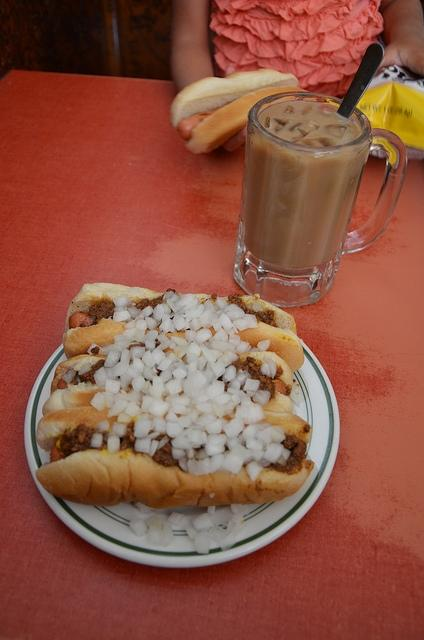onion: (218, 443, 248, 474), (183, 370, 207, 398), (107, 395, 128, 418), (216, 348, 240, 368), (133, 413, 151, 439), (192, 512, 214, 532), (223, 418, 245, 438), (263, 443, 284, 463), (211, 401, 235, 418), (223, 432, 244, 451), (148, 400, 171, 417), (194, 530, 210, 554), (199, 309, 218, 329), (245, 460, 263, 480), (226, 520, 246, 538), (268, 425, 286, 445), (192, 413, 217, 427), (129, 518, 148, 536), (252, 390, 271, 408), (147, 526, 164, 546), (120, 390, 141, 406), (90, 391, 106, 411), (200, 343, 216, 363), (256, 430, 272, 450), (106, 339, 130, 352), (160, 524, 174, 546), (208, 525, 226, 542), (166, 421, 184, 438), (242, 424, 259, 442), (145, 515, 164, 531), (171, 436, 192, 450), (207, 434, 228, 448), (94, 366, 108, 387), (220, 532, 236, 550), (210, 393, 232, 406), (123, 402, 142, 417), (210, 454, 224, 474), (210, 341, 235, 352), (166, 379, 182, 396), (195, 328, 212, 344), (152, 416, 167, 434), (141, 395, 156, 413), (134, 438, 152, 453), (112, 361, 130, 376), (112, 295, 132, 308), (157, 356, 173, 372), (196, 458, 210, 476), (218, 312, 232, 330), (120, 372, 132, 392), (104, 379, 120, 394), (185, 526, 200, 542), (112, 421, 127, 437), (243, 378, 260, 392), (226, 307, 244, 320), (246, 437, 264, 450), (194, 401, 212, 414), (153, 340, 172, 352), (108, 434, 120, 453), (61, 369, 76, 384), (211, 362, 226, 377), (159, 318, 174, 333), (206, 420, 222, 434), (277, 448, 291, 464), (130, 346, 146, 360), (242, 314, 258, 328), (222, 366, 236, 382), (132, 376, 146, 392), (168, 512, 184, 526), (248, 449, 265, 462), (113, 310, 131, 322), (122, 327, 136, 342), (171, 395, 190, 406), (234, 340, 250, 353), (160, 368, 173, 384), (242, 450, 255, 466), (128, 390, 145, 402), (190, 394, 210, 404), (170, 336, 188, 347), (186, 362, 197, 380), (206, 386, 220, 400), (214, 328, 228, 342), (144, 367, 158, 381), (174, 316, 187, 331), (233, 318, 248, 331), (148, 439, 159, 456), (153, 304, 164, 321), (189, 318, 202, 332), (127, 306, 141, 319), (140, 381, 152, 396), (173, 368, 188, 380), (268, 359, 277, 379), (132, 357, 144, 372), (136, 502, 151, 514), (90, 433, 102, 448), (178, 456, 189, 472), (102, 392, 113, 408), (118, 412, 132, 424), (172, 447, 186, 459), (88, 343, 102, 355), (78, 363, 92, 375), (104, 368, 118, 380), (178, 344, 190, 358), (177, 416, 191, 428), (120, 348, 131, 363), (259, 364, 272, 376), (228, 334, 241, 346), (145, 317, 157, 330), (184, 329, 196, 342), (150, 386, 162, 399), (146, 330, 158, 343), (180, 295, 194, 306), (196, 448, 210, 459), (204, 367, 215, 381), (188, 410, 200, 422), (135, 319, 147, 331), (98, 420, 110, 432), (144, 341, 156, 353), (160, 302, 171, 315), (172, 404, 186, 414), (215, 418, 229, 428), (166, 411, 178, 422), (157, 334, 170, 344), (186, 448, 197, 459), (189, 423, 204, 431), (259, 457, 271, 467), (258, 340, 270, 350), (142, 306, 154, 316), (229, 380, 241, 390), (290, 390, 298, 404), (231, 394, 241, 405), (124, 319, 136, 328), (174, 300, 184, 310), (170, 294, 180, 304), (238, 434, 246, 446), (189, 304, 204, 310), (240, 401, 255, 407), (230, 504, 239, 514), (213, 310, 224, 318), (246, 390, 256, 398), (190, 442, 202, 448), (208, 506, 216, 514), (178, 358, 186, 365), (209, 306, 217, 313), (174, 346, 180, 354), (238, 368, 244, 374), (184, 304, 190, 310), (185, 317, 192, 322)
